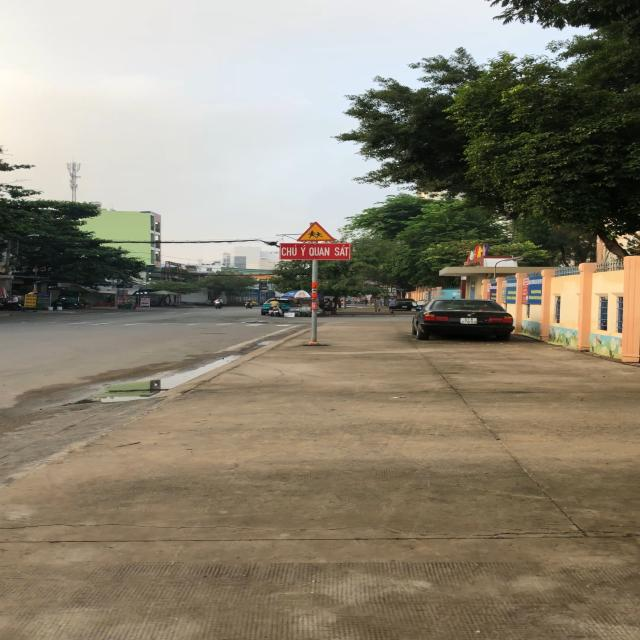Bien bao tre em: (293, 220, 337, 242)
